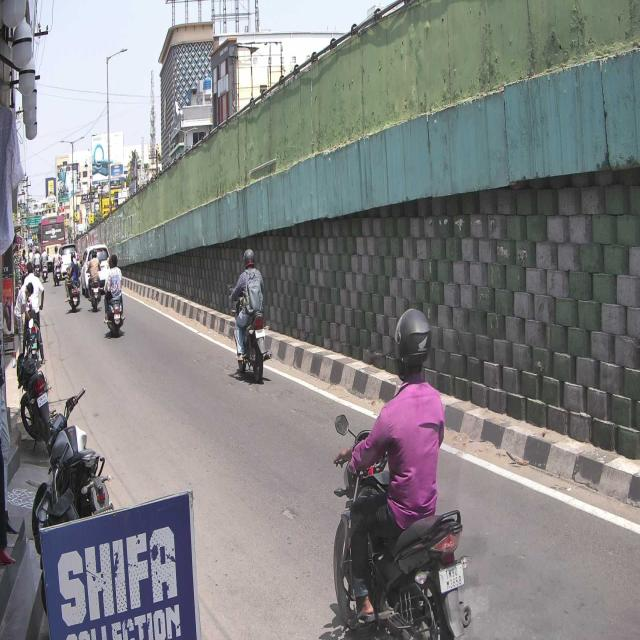single_rider: (332, 304, 472, 640), (230, 249, 273, 382)
